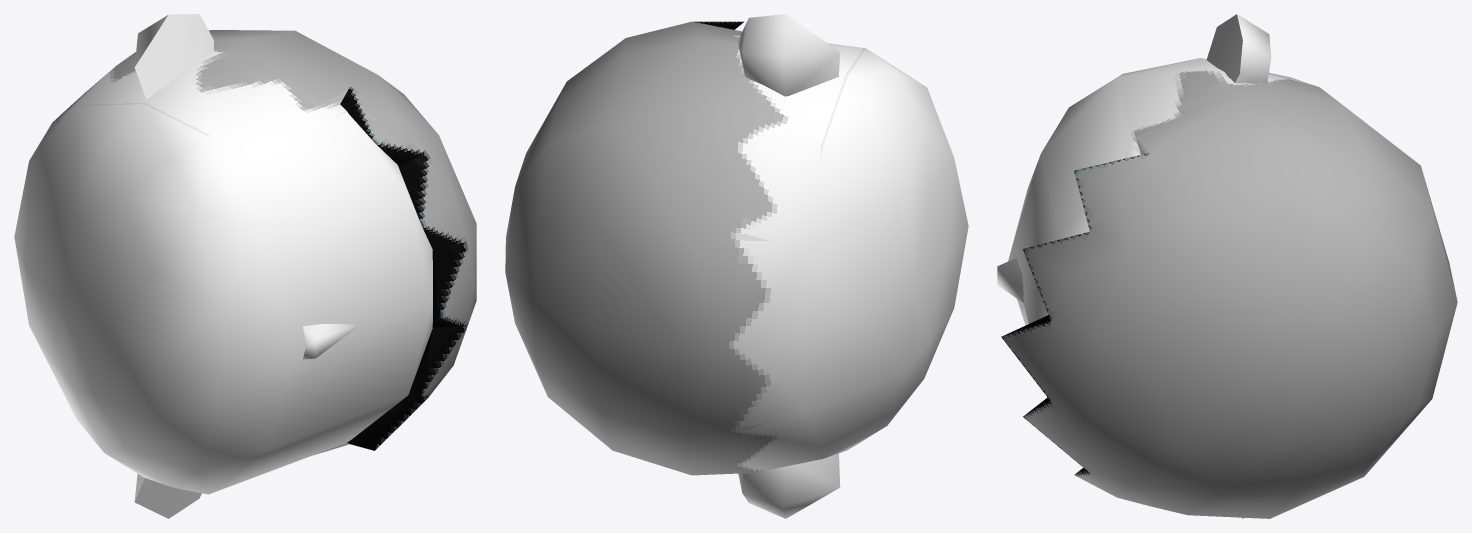
The model's file is boy07a.dae.
3 renders of one model, left to right at view 1: azimuth 30°, elevation 25°; view 2: azimuth 150°, elevation 25°; view 3: azimuth 270°, elevation 25°, orthographic.
Parts seen in each view (by area): view 1: boy07a; view 2: boy07a; view 3: boy07a.
Part boxes in pixels (box(x1,y1,x2,y2)): boy07a: box(14, 14, 476, 518); boy07a: box(505, 14, 968, 518); boy07a: box(997, 14, 1457, 518).
Size of the model in its own units: 20.77 by 26.71 by 22.36.
3 materials, 1 textured.
